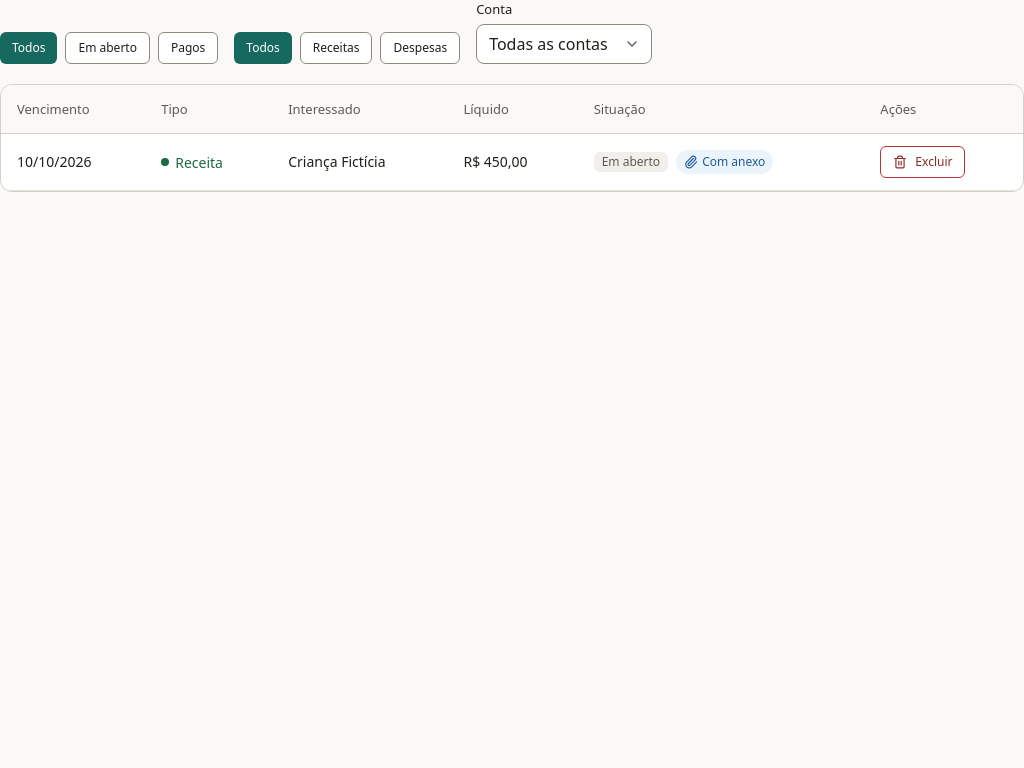
Test case: Lista de lançamentos — excluir o que tem anexo › deve mostrar, dentro da confirmação, a recusa de excluir lançamento com anexo
Click the button "Excluir" at [923, 162], box [880,146,966,178]
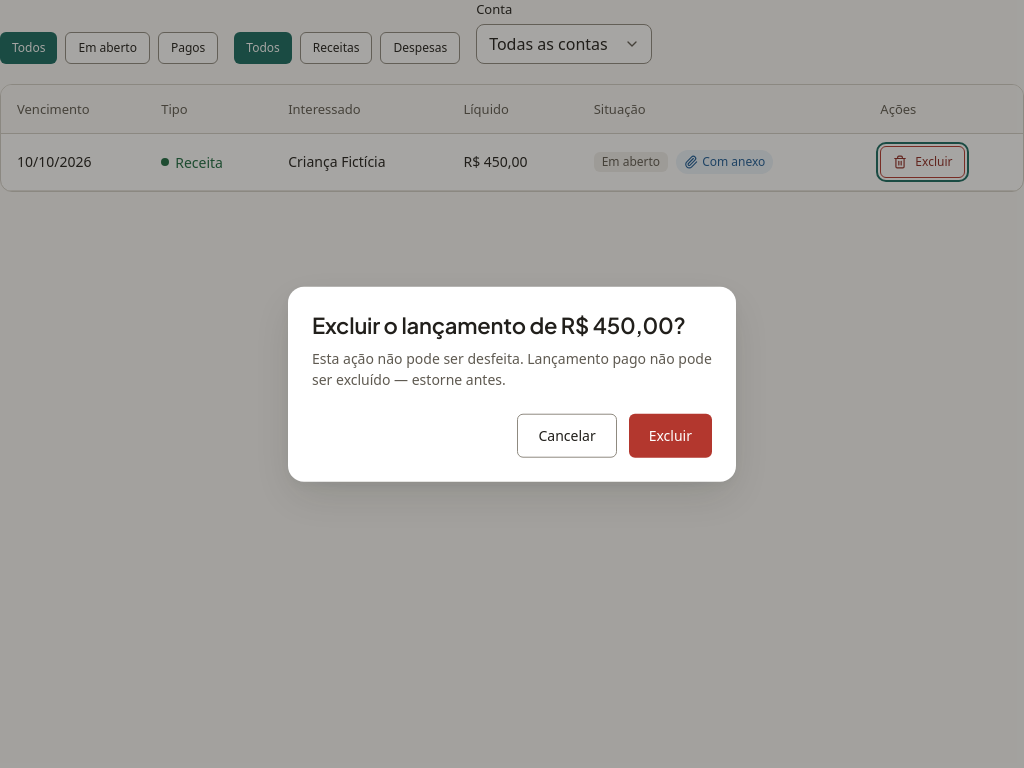
Click the button "Excluir" at [670, 435], box [629,413,712,457]
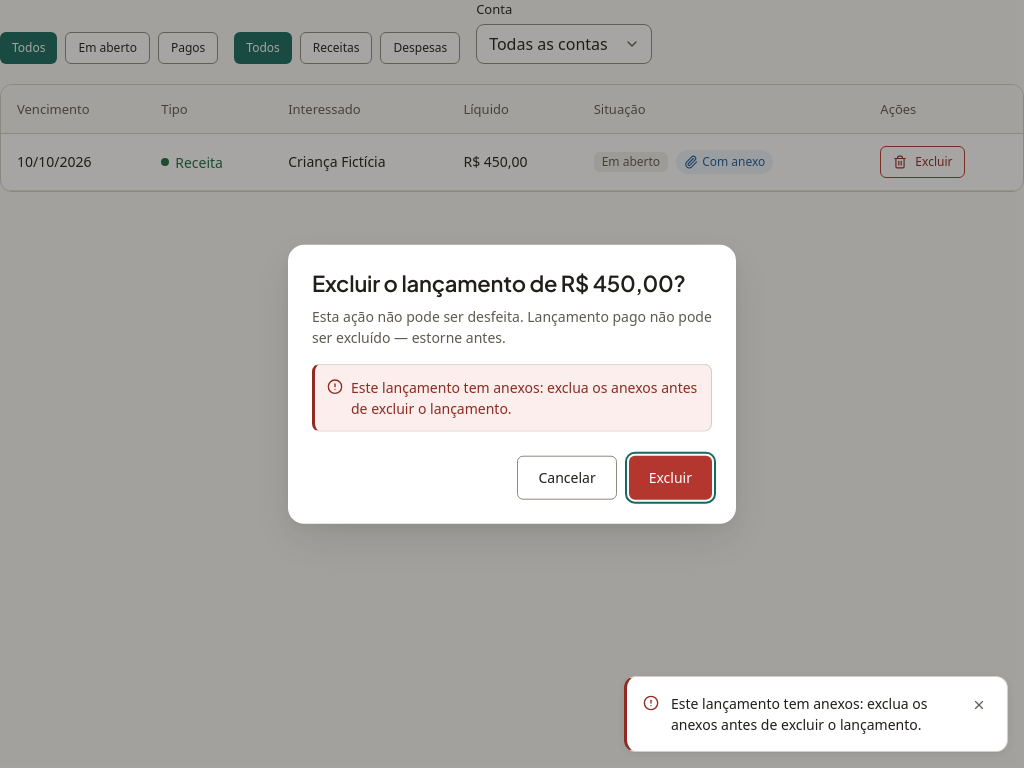
Result: the text "exclua os anexos antes" below "Excluir o lançamento de" is shown at [351,377,697,417]
